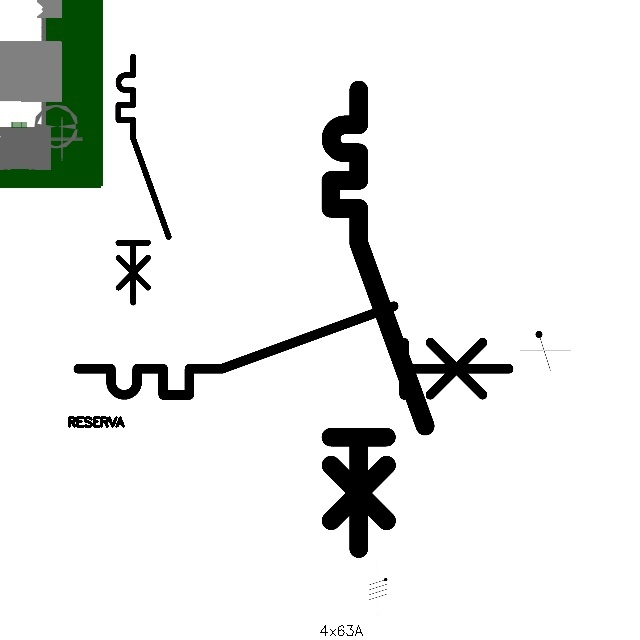interruptor_termomagnetico: (319, 78, 437, 560), (67, 295, 519, 406), (112, 50, 175, 309)
